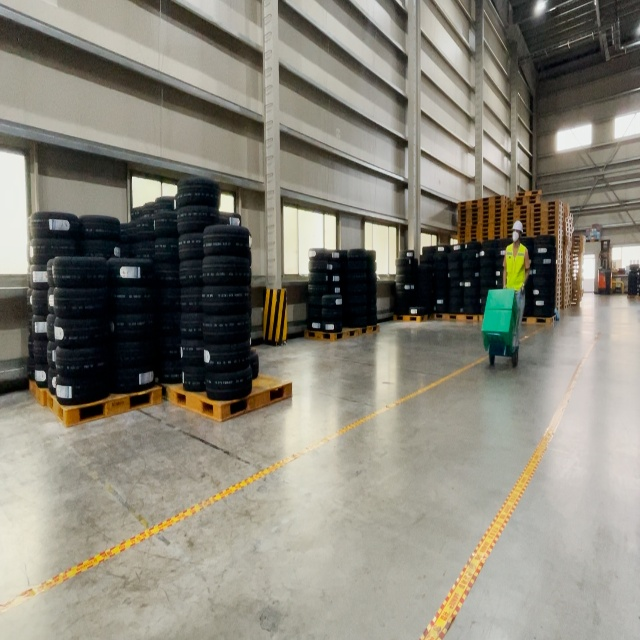Box: (481, 308, 517, 352), (483, 288, 518, 326)
Worker: (502, 218, 531, 350)
